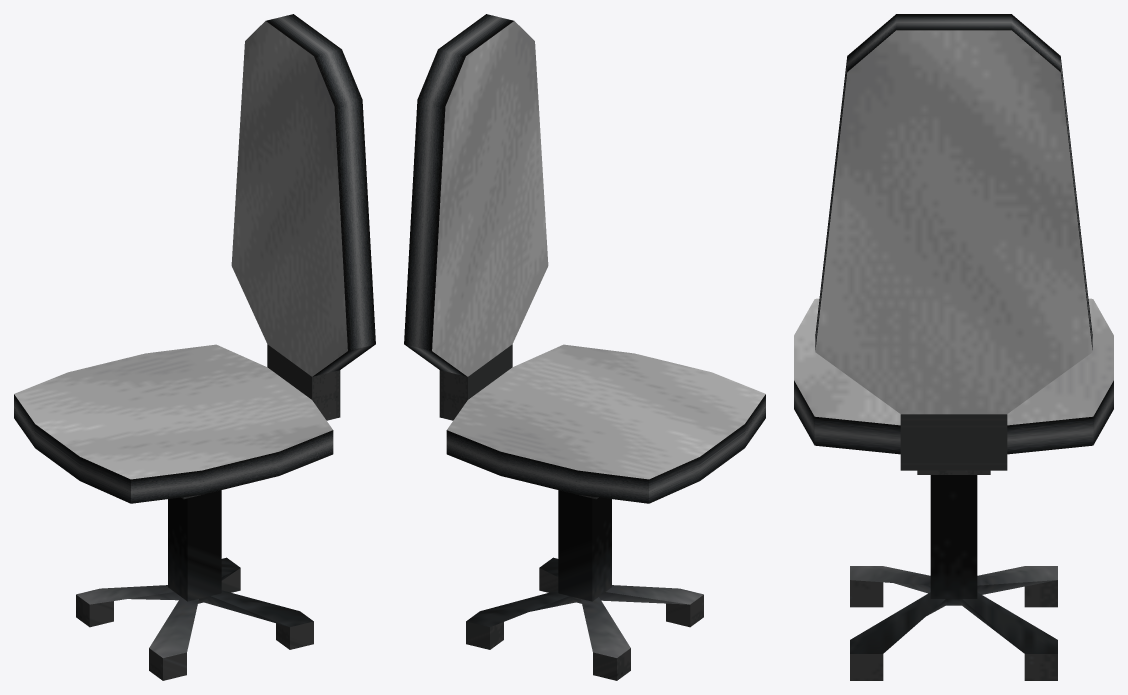
The model's file is Chair.fbx.
3 renders of one model, left to right at view 1: azimuth 30°, elevation 25°; view 2: azimuth 150°, elevation 25°; view 3: azimuth 270°, elevation 25°, orthographic. The views are drawn at different scales.
Visible parts, largest first — view 1: Cube; view 2: Cube; view 3: Cube.
Boxes of the visible parts, x1=… form: Cube: x1=14, y1=14, x2=375, y2=680; Cube: x1=404, y1=14, x2=765, y2=680; Cube: x1=794, y1=14, x2=1113, y2=680.
Bounding box in the file's own units: 224 × 468 × 200.
